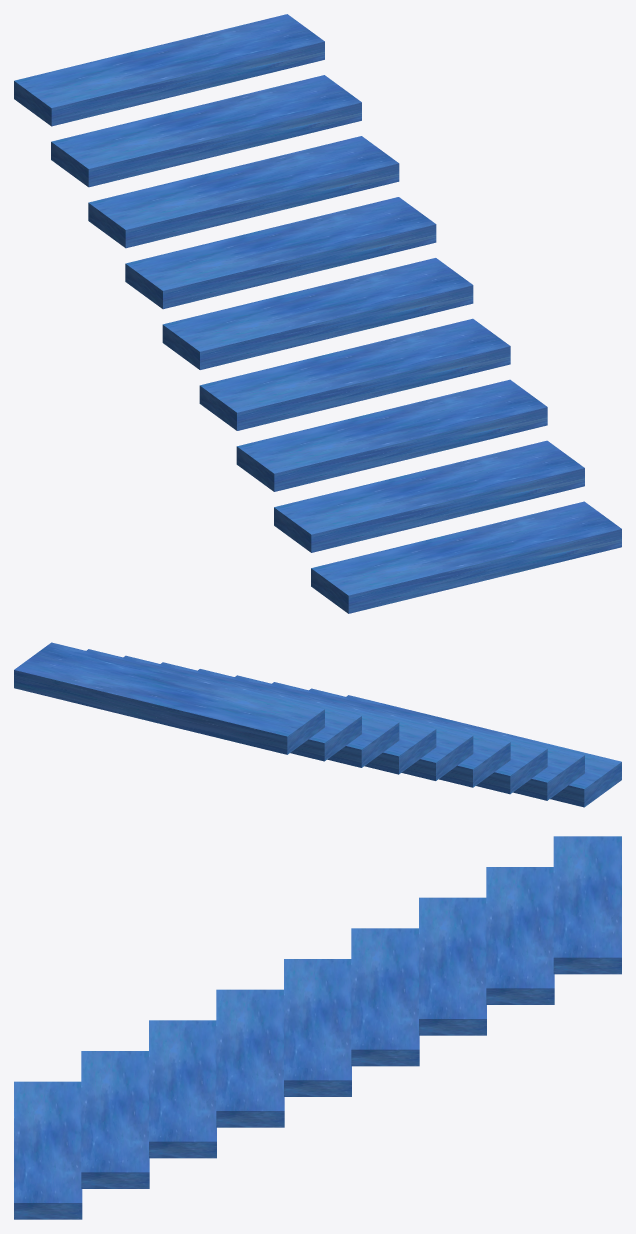
3 renders of one model, top to bottom at view 1: azimuth 30°, elevation 25°; view 2: azimuth 150°, elevation 25°; view 3: azimuth 270°, elevation 25°, orthographic. The views are drawn at different scales.
Visible parts, largest first — view 1: SM_DK_4m_Steps_01_LOD0; view 2: SM_DK_4m_Steps_01_LOD0; view 3: SM_DK_4m_Steps_01_LOD0.
Part boxes in pixels (<box>): SM_DK_4m_Steps_01_LOD0: <box>14,14,621,613</box>; SM_DK_4m_Steps_01_LOD0: <box>14,642,621,807</box>; SM_DK_4m_Steps_01_LOD0: <box>14,836,621,1219</box>.
Bounding box in the file's own units: 2 × 2.02 × 4.24.
Materials: 1 (1 with a texture image).
